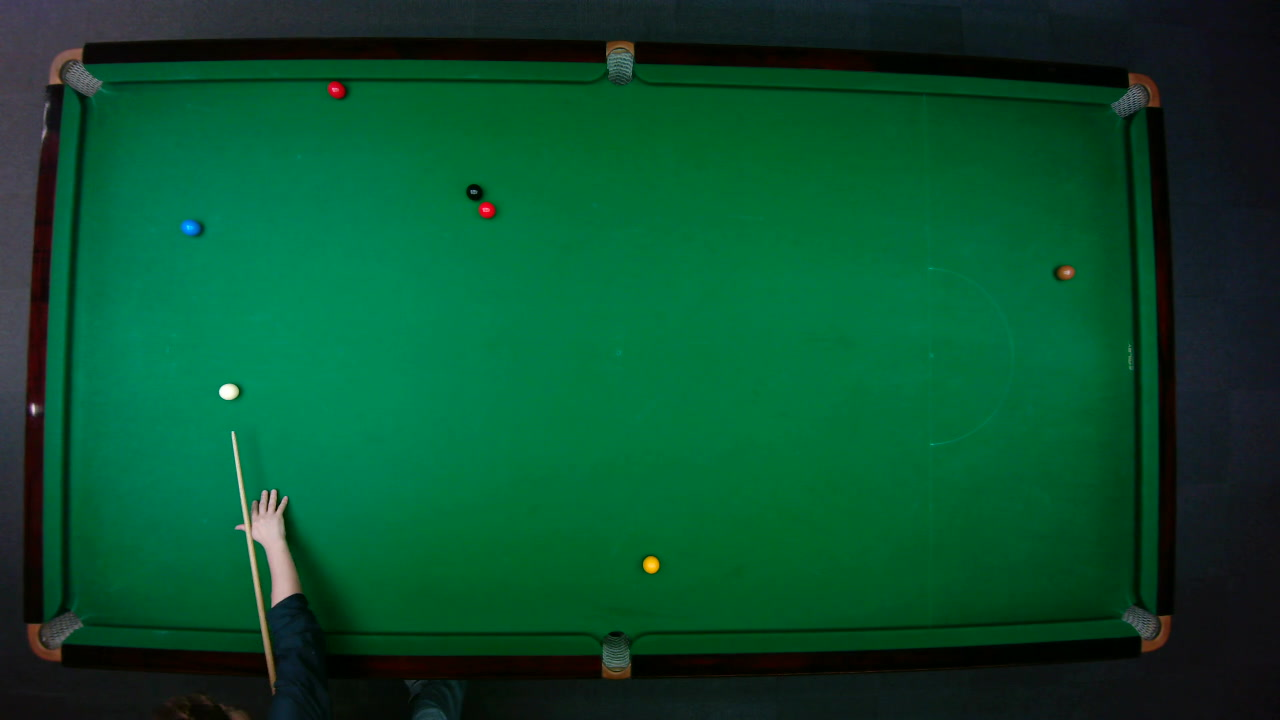bag: (25, 609, 84, 661), (46, 47, 102, 97), (1119, 603, 1171, 651), (1108, 72, 1160, 118), (601, 629, 630, 680), (605, 39, 633, 85)
black: (465, 183, 482, 200)
blue: (179, 217, 201, 236)
brown: (1054, 263, 1076, 280)
cue: (231, 428, 277, 695)
red: (326, 79, 346, 99), (476, 200, 496, 219)
white: (217, 381, 240, 400)
yellow: (641, 554, 660, 574)
zone: (926, 265, 1013, 445)
